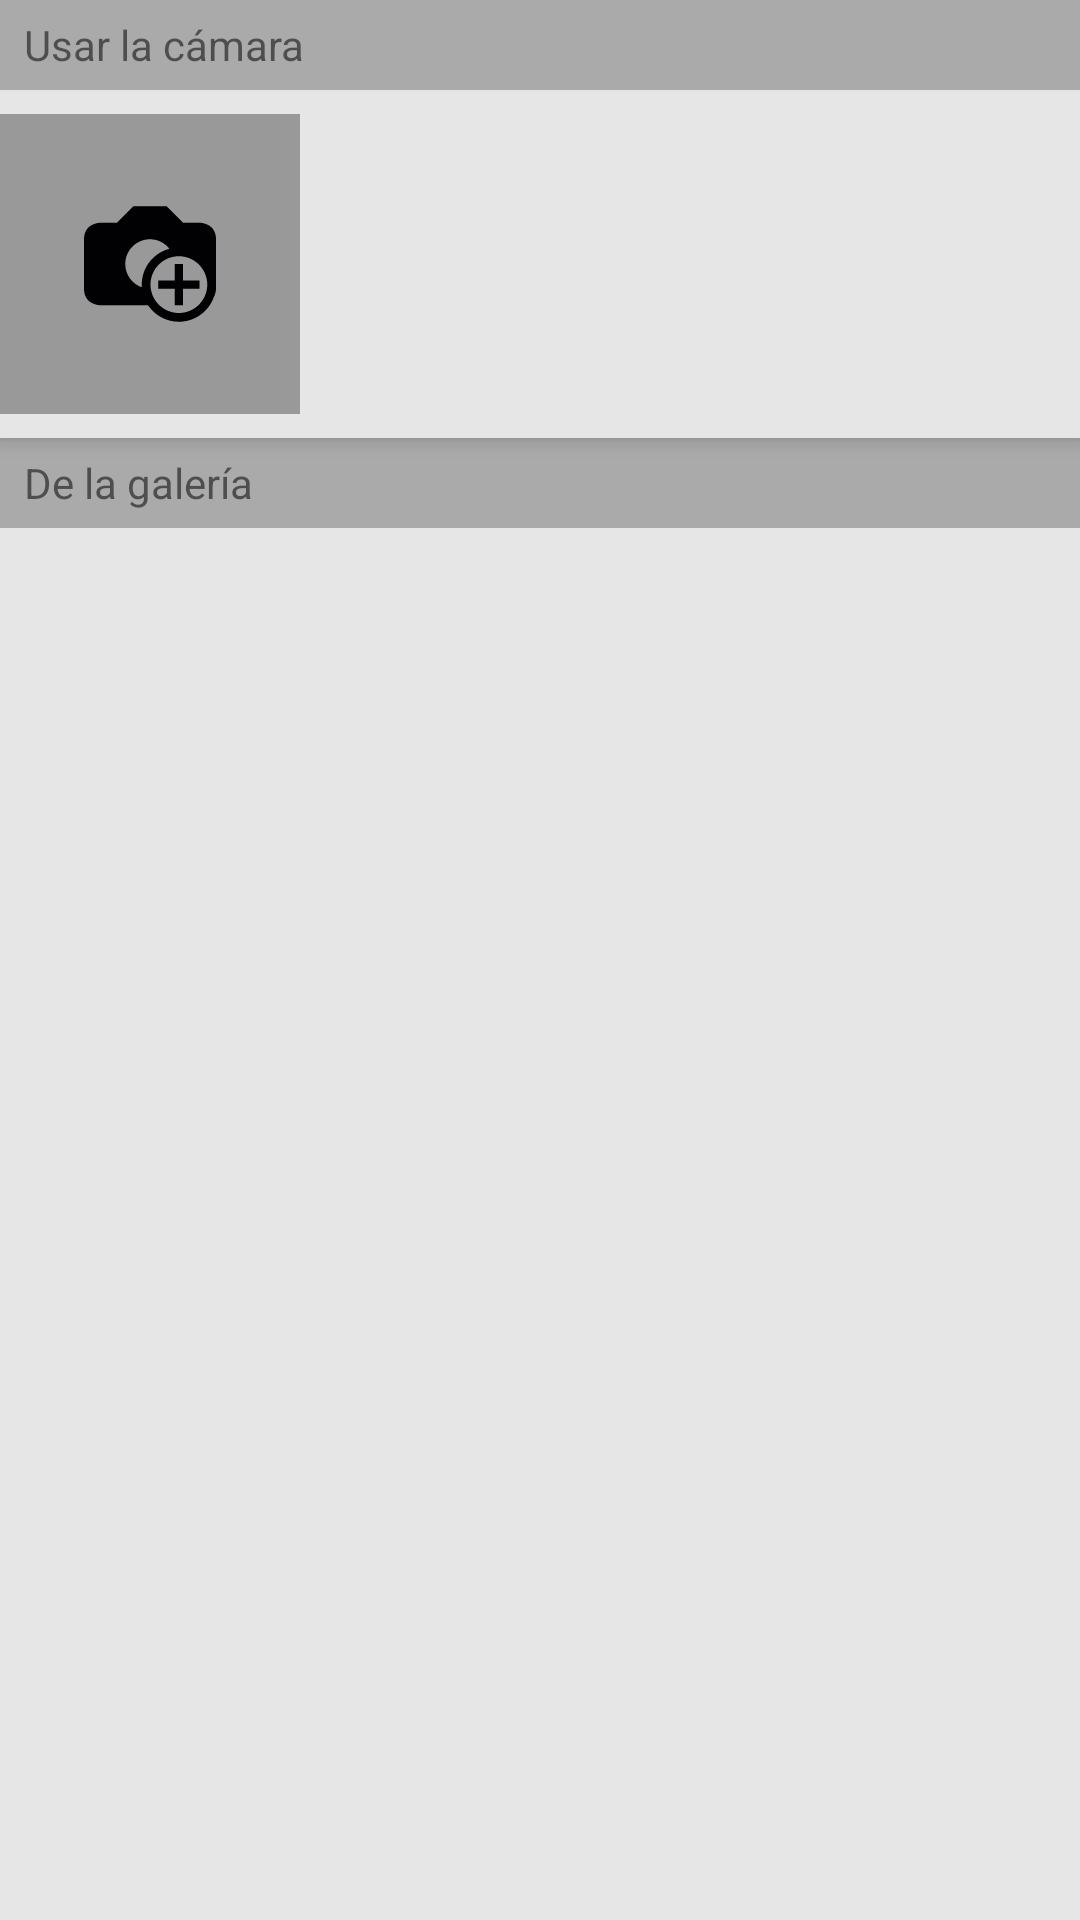

Where icons sit on this 1080x1920 app screen, as (x1, y1, x2, y2):
add: (84, 206, 216, 322)
